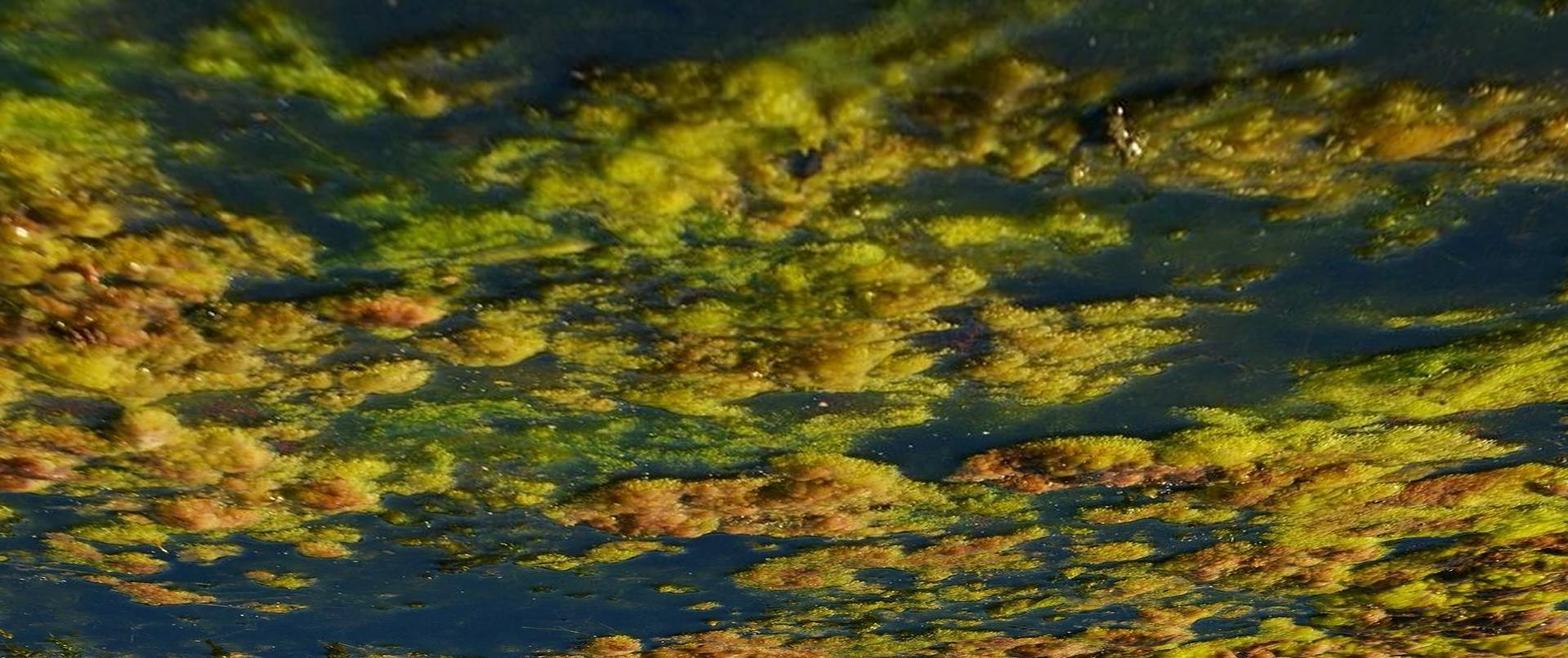Eutrophication Pollution: (1, 4, 1568, 658)
